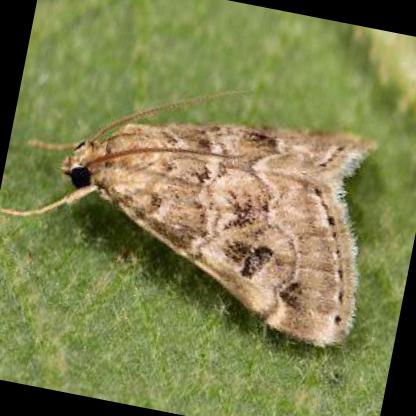Hellula undalis: (0, 85, 383, 352)
